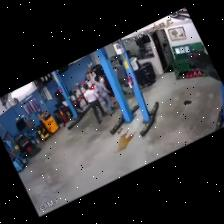person: (84, 84, 107, 123), (95, 76, 114, 114)
